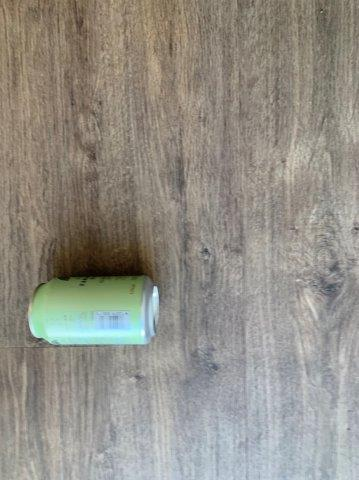kaleng: (29, 277, 159, 345)
